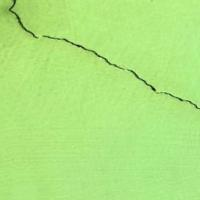crack: (3, 0, 199, 112)
